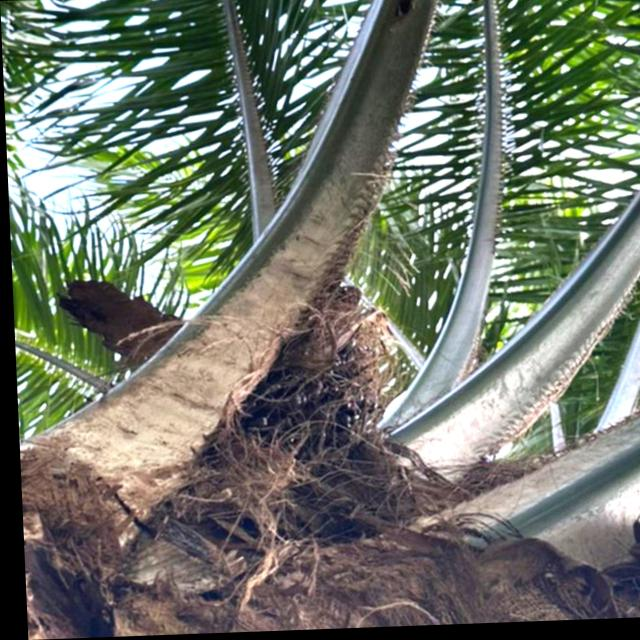unripe: (179, 280, 405, 520)
